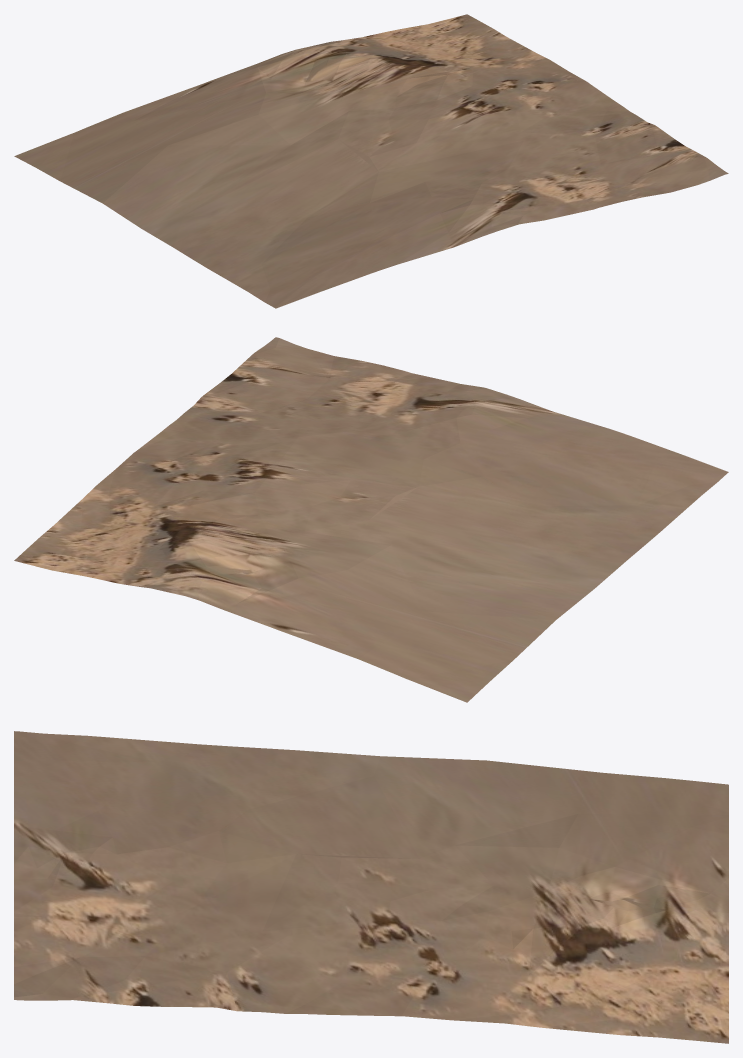
3 renders of one model, top to bottom at view 1: azimuth 30°, elevation 25°; view 2: azimuth 150°, elevation 25°; view 3: azimuth 270°, elevation 25°, orthographic. The views are drawn at different scales.
Size of the model in its own units: 2.09 by 0.2855 by 2.09.
Materials: 2 (2 with a texture image).
